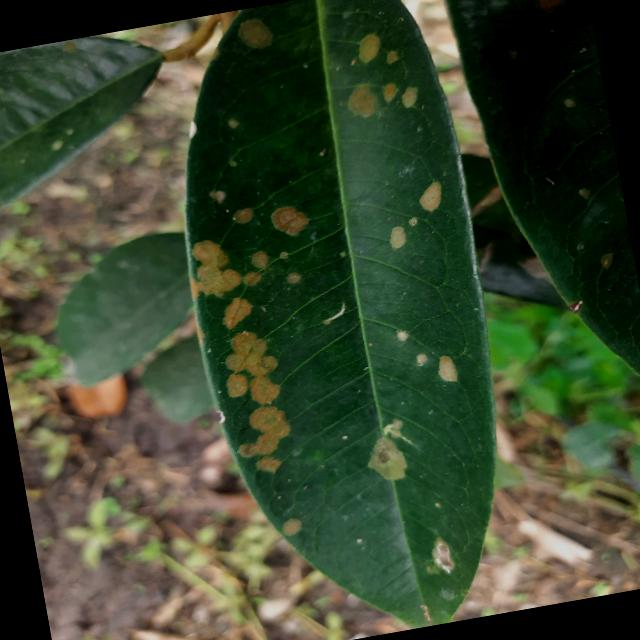Algal Leaf Spot: (129, 0, 552, 639)
